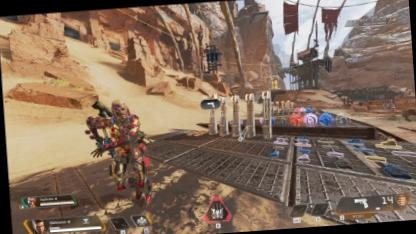Target: (92, 96, 152, 212), (390, 104, 396, 115)
